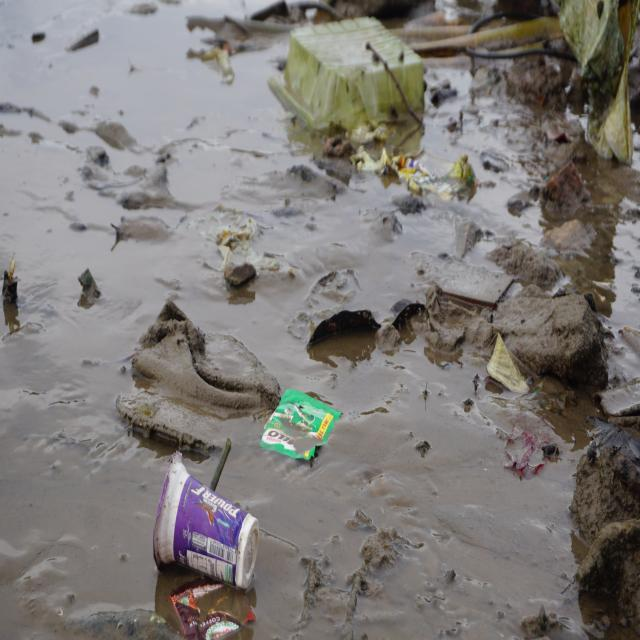Bungkus Makanan: (277, 16, 432, 150)
Bungkus Minuman: (148, 447, 261, 593), (260, 388, 344, 468), (168, 572, 259, 640)
